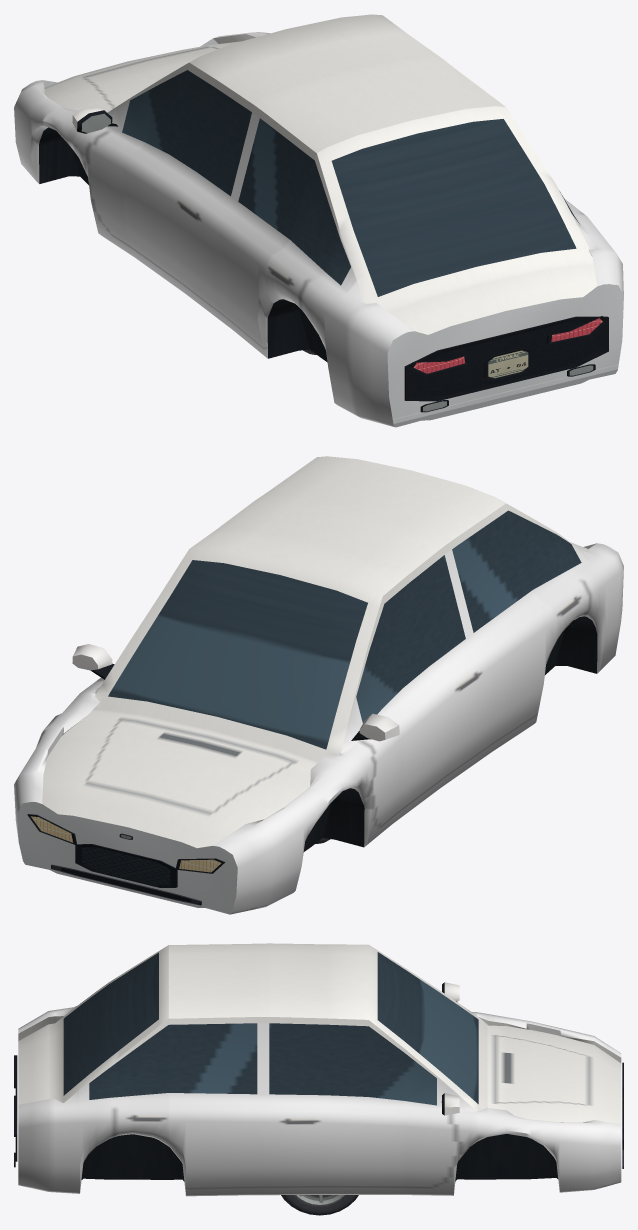
File: linha_rs.glb
3 views of the same model, one above another, from view 1: azimuth 30°, elevation 25°; view 2: azimuth 150°, elevation 25°; view 3: azimuth 270°, elevation 25° (orthographic). The views are drawn at different scales.
Visible parts, largest first — view 1: Carroceria_linha_rs; view 2: Carroceria_linha_rs; view 3: Carroceria_linha_rs, Roda_linha_rs.
Part boxes in pixels (<box>): Carroceria_linha_rs: <box>14,14,623,427</box>; Carroceria_linha_rs: <box>14,456,623,914</box>; Carroceria_linha_rs: <box>14,943,623,1196</box>; Roda_linha_rs: <box>281,1195,358,1215</box>.
Bounding box in the file's own units: 1.95 × 1.73 × 4.
Materials: 6 (6 with a texture image).
